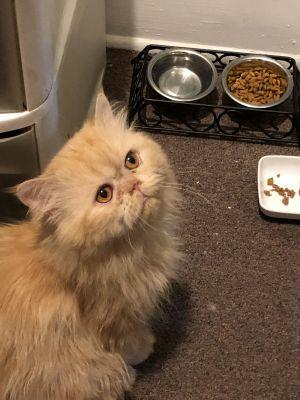persian: (9, 91, 183, 264)
